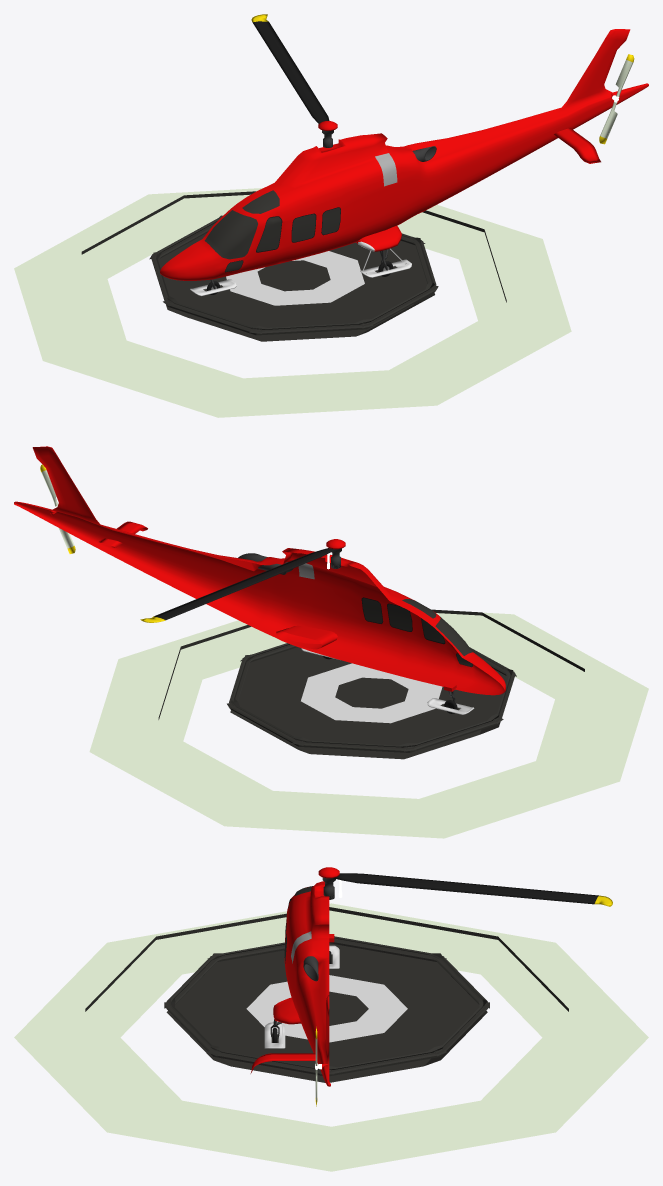
Rendered from helicopter_pro.gltf.
3 views of the same model, one above another, from view 1: azimuth 30°, elevation 25°; view 2: azimuth 150°, elevation 25°; view 3: azimuth 270°, elevation 25° (orthographic). The views are drawn at different scales.
Parts seen in each view (by area): view 1: Cylinder.006, Cube, Cylinder.005, Cylinder.003, Cube.001, Cube.004, Cylinder.002; view 2: Cylinder.006, Cube, Cylinder.005, Cylinder.003, Cube.004; view 3: Cylinder.006, Cylinder.005, Cube, Cylinder.003, Cube.004, Cube.001.
Part boxes in pixels (x1,y1,x2,y2): Cylinder.006: (14,188,571,417); Cube: (160,29,648,280); Cylinder.005: (81,191,506,341); Cylinder.003: (251,14,329,123); Cube.001: (554,128,600,163); Cube.004: (356,226,401,251); Cylinder.002: (599,54,634,144); Cylinder.006: (89,612,648,838); Cube: (14,446,505,695); Cylinder.005: (158,609,584,759); Cylinder.003: (140,548,335,622); Cube.004: (276,625,337,649); Cylinder.006: (14,903,648,1171); Cylinder.005: (85,907,568,1082); Cube: (284,881,330,1086); Cylinder.003: (333,873,612,906); Cube.004: (273,997,301,1024); Cube.001: (250,1053,315,1073).
Size of what is drawn, in the model's own units: 11.55 by 3.53 by 9.55.
